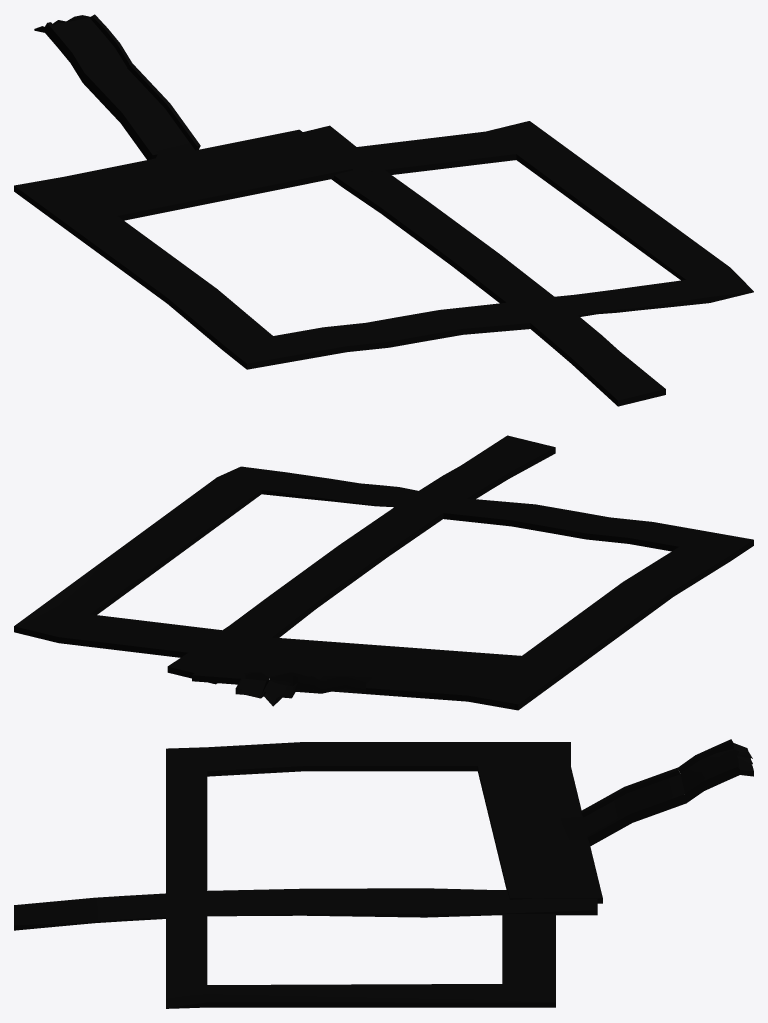
Rendered from Ruacorrigida.fbx.
The picture shows the model from 3 angles, top to bottom: view 1: azimuth 30°, elevation 25°; view 2: azimuth 150°, elevation 25°; view 3: azimuth 270°, elevation 25°; orthographic projection. The views are drawn at different scales.
Visible parts, largest first — view 1: Prasa1; view 2: Prasa1; view 3: Prasa1.
Boxes of the visible parts, x1=… form: Prasa1: x1=14, y1=14, x2=753, y2=406; Prasa1: x1=14, y1=435, x2=753, y2=710; Prasa1: x1=14, y1=739, x2=753, y2=1008.
Size of the model in its own units: 5536 by 1298 by 8055.
